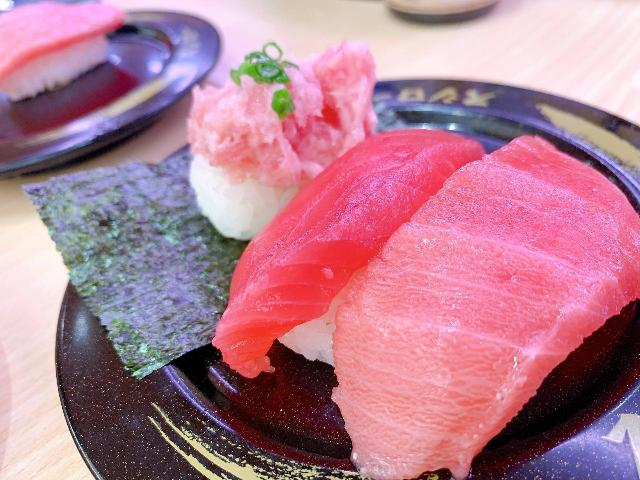janback: (42, 78, 637, 480), (0, 8, 210, 145)
